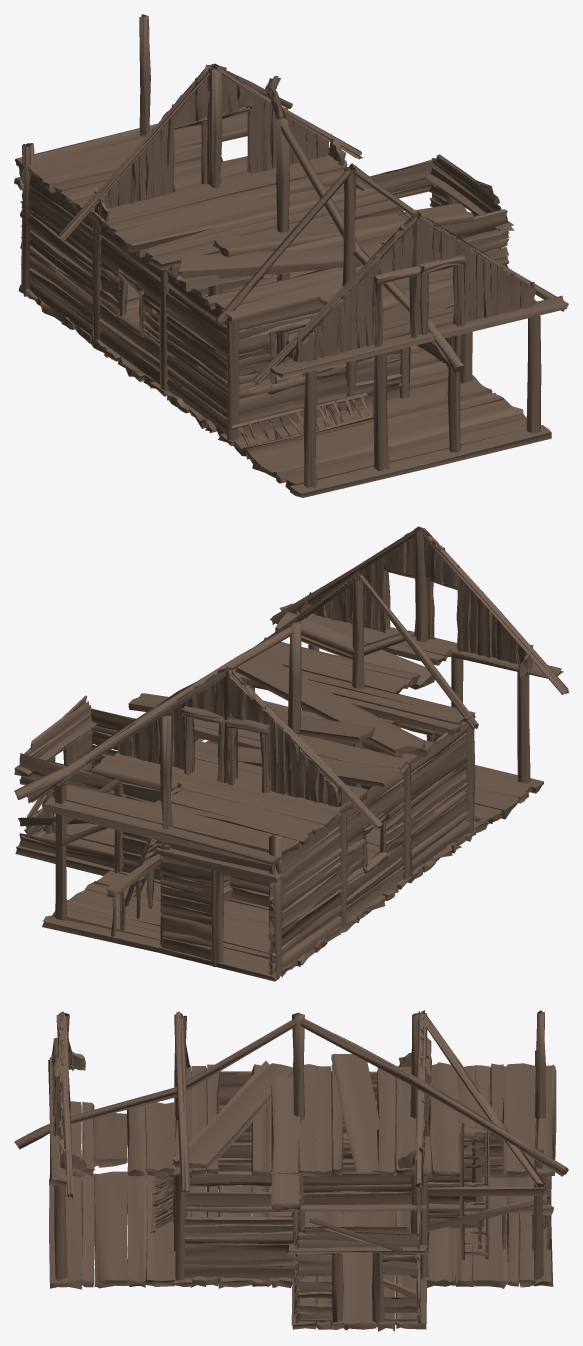
File: ruins.fbx
The picture shows the model from 3 angles, top to bottom: view 1: azimuth 30°, elevation 25°; view 2: azimuth 150°, elevation 25°; view 3: azimuth 270°, elevation 25°; orthographic projection. The views are drawn at different scales.
Parts seen in each view (by area): view 1: Cylinder_LOD0; view 2: Cylinder_LOD0; view 3: Cylinder_LOD0.
Part boxes in pixels (x1=…): Cylinder_LOD0: x1=14, y1=14, x2=568, y2=497; Cylinder_LOD0: x1=14, y1=526, x2=568, y2=981; Cylinder_LOD0: x1=14, y1=1010, x2=568, y2=1331.
Size of what is drawn, in the model's own units: 1342 by 839 by 1877.
